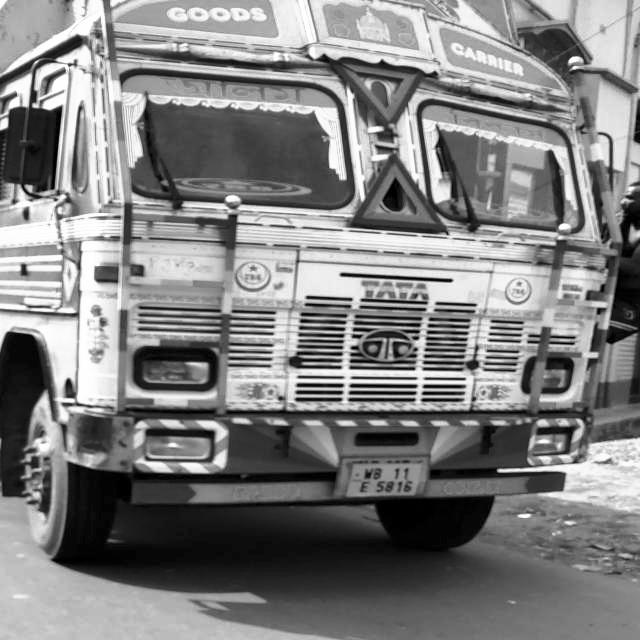HCV: (1, 3, 640, 602)
